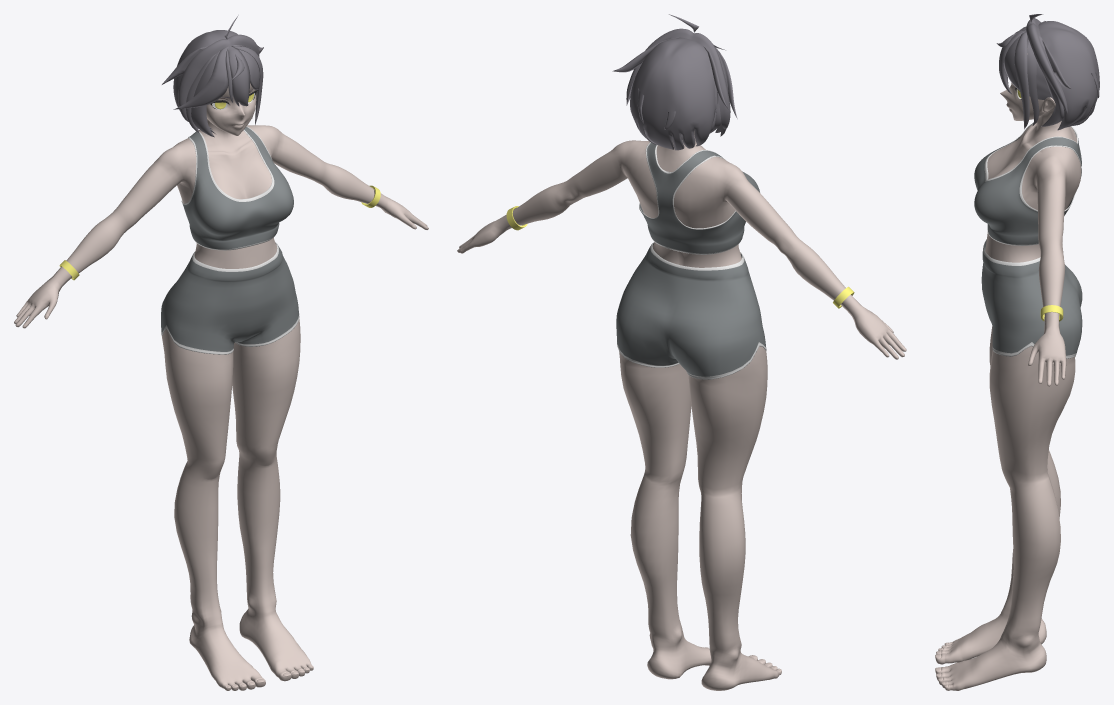
File: fhfuv.fbx
The picture shows the model from 3 angles, left to right: view 1: azimuth 30°, elevation 25°; view 2: azimuth 150°, elevation 25°; view 3: azimuth 270°, elevation 25°; orthographic projection. The views are drawn at different scales.
Parts seen in each view (by area): view 1: body.004; view 2: body.004; view 3: body.004.
Boxes of the visible parts, bbox=[...] form: body.004: bbox=[14, 15, 428, 690]; body.004: bbox=[457, 14, 906, 690]; body.004: bbox=[935, 14, 1099, 690].
Bounding box in the file's own units: 116 × 170 × 38.33.
